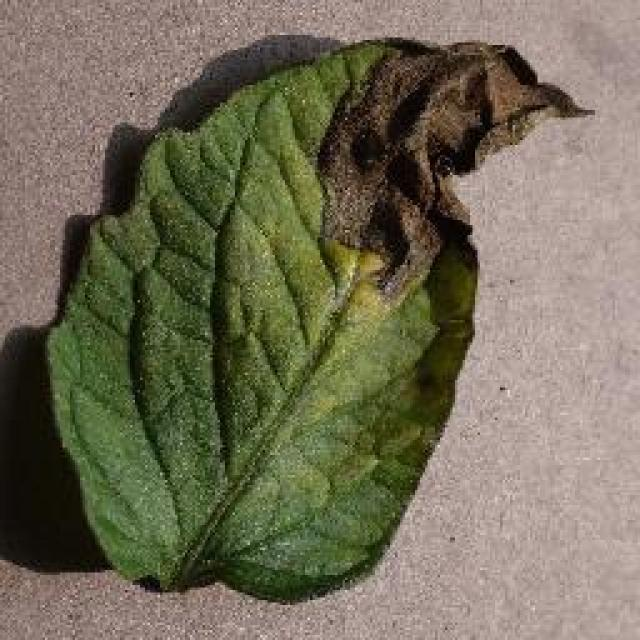Tomato late blight leaf: (50, 34, 597, 604)
